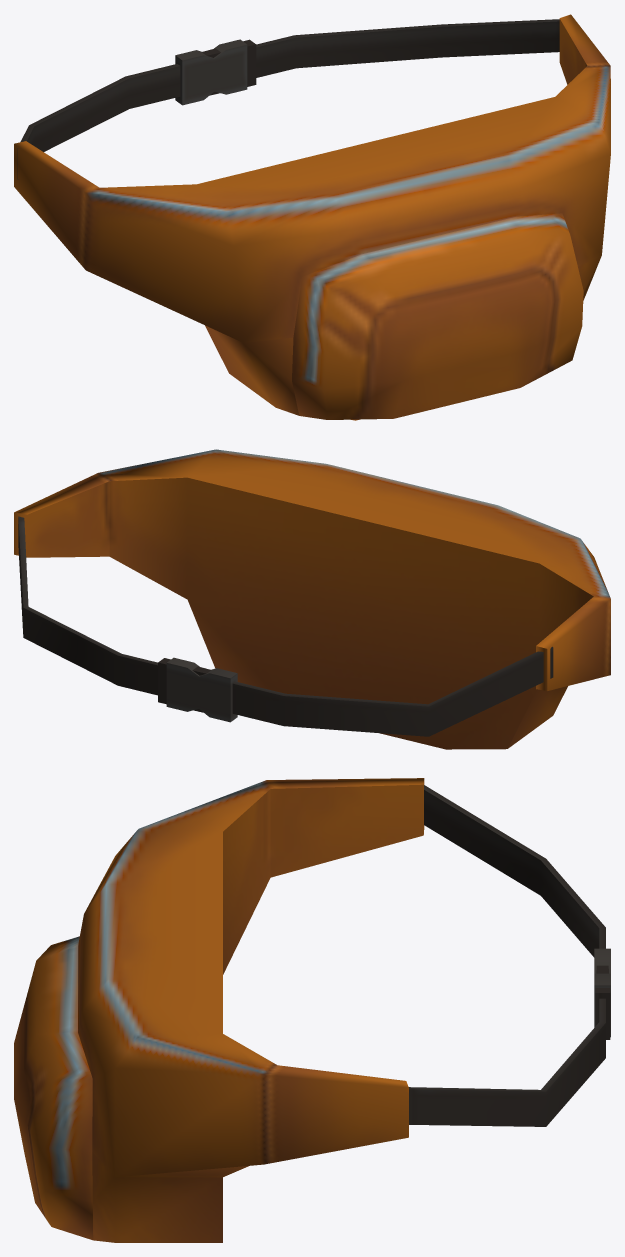
File: MaLuBian_01_yaobao_01.FBX
3 renders of one model, top to bottom at view 1: azimuth 30°, elevation 25°; view 2: azimuth 150°, elevation 25°; view 3: azimuth 270°, elevation 25°, orthographic. The views are drawn at different scales.
Parts seen in each view (by area): view 1: pCube126; view 2: pCube126; view 3: pCube126.
Part boxes in pixels (<box>): pCube126: <box>14,14,610,420</box>; pCube126: <box>14,449,610,749</box>; pCube126: <box>14,778,610,1242</box>.
Size of the model in its own units: 330 by 125 by 268.
